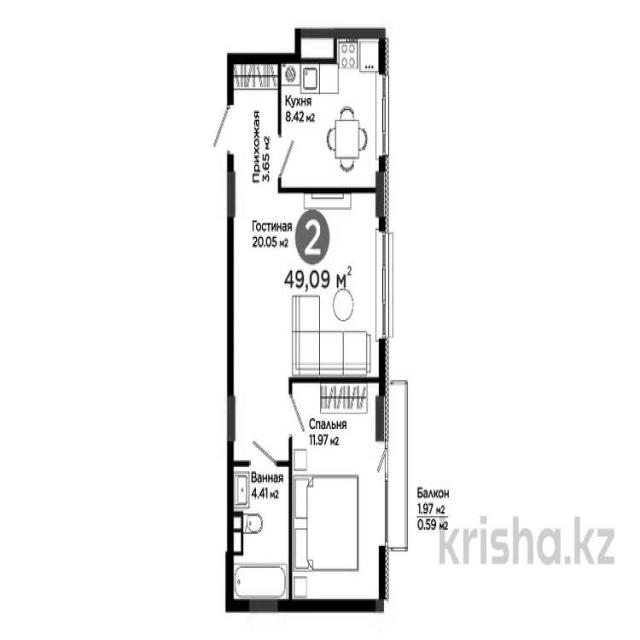balcony: (384, 380, 408, 553)
bathroom: (230, 460, 292, 607)
hallway: (229, 59, 281, 189)
kitchen: (279, 34, 387, 188)
living_room: (229, 188, 386, 377), (291, 379, 385, 608)
